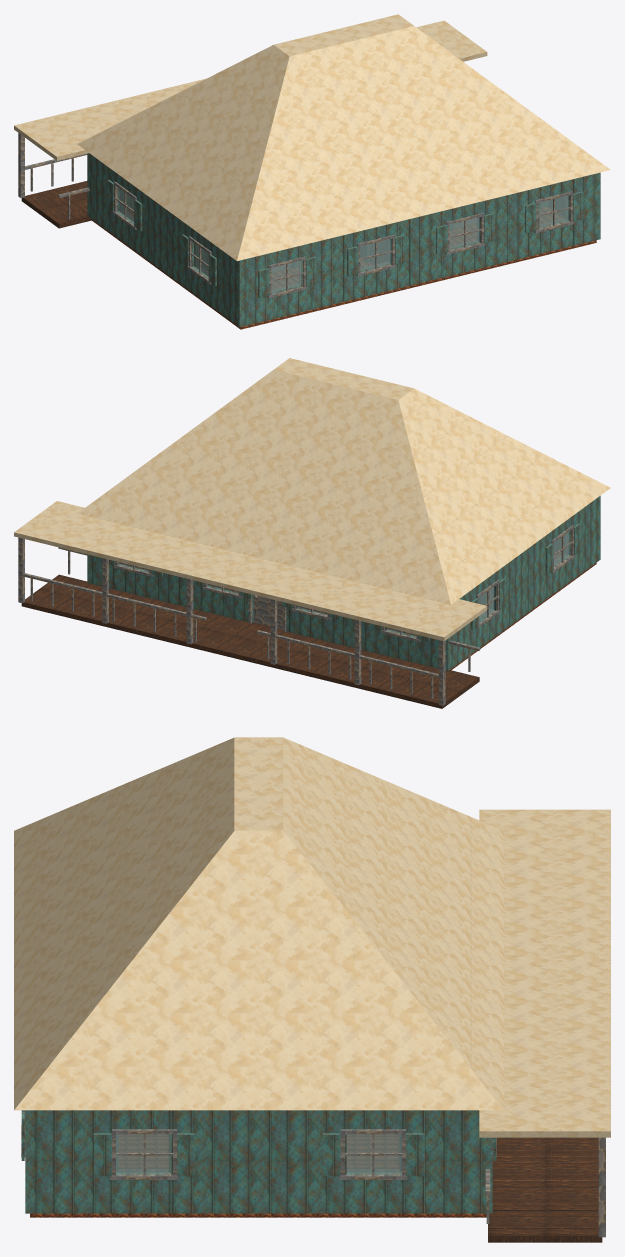
The model's file is estuary-cottage.gltf.
3 views of the same model, one above another, from view 1: azimuth 30°, elevation 25°; view 2: azimuth 150°, elevation 25°; view 3: azimuth 270°, elevation 25° (orthographic). The views are drawn at different scales.
Parts seen in each view (by area): view 1: roof-L0-green-metal, exterior-L0-cream-siding, porch-L0-green-metal, trim-L0-dark-wood, trim-L0-cream-siding, glazing-L0-glass, floor-L0-floor, porch-L0-stone, porch-L0-dark-wood, interior-L0-interior; view 2: roof-L0-green-metal, porch-L0-green-metal, exterior-L0-cream-siding, porch-L0-stone, porch-L0-dark-wood, trim-L0-dark-wood, trim-L0-cream-siding, glazing-L0-glass, door-leaf-L0-dark-wood; view 3: roof-L0-green-metal, exterior-L0-cream-siding, porch-L0-green-metal, porch-L0-stone, floor-L0-floor, glazing-L0-glass, trim-L0-cream-siding, trim-L0-dark-wood, porch-L0-dark-wood.
Boxes of the visible parts, x1,y1,x2,y2 form: roof-L0-green-metal: [77, 14, 610, 260]; exterior-L0-cream-siding: [87, 153, 600, 327]; porch-L0-green-metal: [14, 20, 487, 160]; trim-L0-dark-wood: [112, 181, 574, 298]; trim-L0-cream-siding: [107, 179, 583, 298]; glazing-L0-glass: [119, 188, 568, 292]; floor-L0-floor: [91, 207, 596, 329]; porch-L0-stone: [21, 181, 91, 228]; porch-L0-dark-wood: [18, 133, 89, 218]; interior-L0-interior: [194, 201, 548, 270]; roof-L0-green-metal: [77, 358, 610, 604]; porch-L0-green-metal: [14, 501, 487, 641]; exterior-L0-cream-siding: [87, 496, 600, 670]; porch-L0-stone: [21, 574, 479, 708]; porch-L0-dark-wood: [18, 537, 480, 705]; trim-L0-dark-wood: [113, 525, 575, 642]; trim-L0-cream-siding: [109, 523, 580, 641]; glazing-L0-glass: [120, 532, 568, 636]; door-leaf-L0-dark-wood: [253, 595, 282, 629]; roof-L0-green-metal: [14, 737, 503, 1110]; exterior-L0-cream-siding: [25, 1110, 492, 1213]; porch-L0-green-metal: [479, 809, 610, 1137]; porch-L0-stone: [488, 1137, 602, 1242]; floor-L0-floor: [30, 1135, 486, 1217]; glazing-L0-glass: [116, 1134, 401, 1172]; trim-L0-cream-siding: [21, 1110, 496, 1176]; trim-L0-dark-wood: [21, 1110, 496, 1179]; porch-L0-dark-wood: [485, 1137, 605, 1237].
Size of the model in its own units: 13.3 by 5.81 by 10.43.
8 materials, 7 textured.
